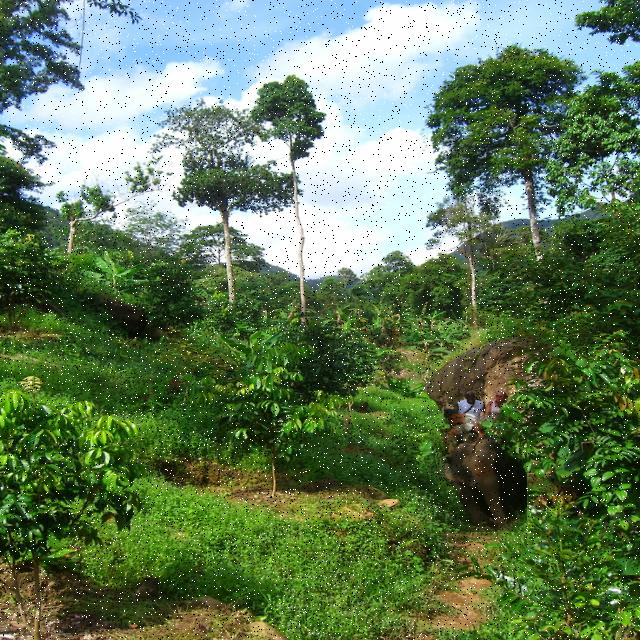elephant: (434, 414, 527, 532)
